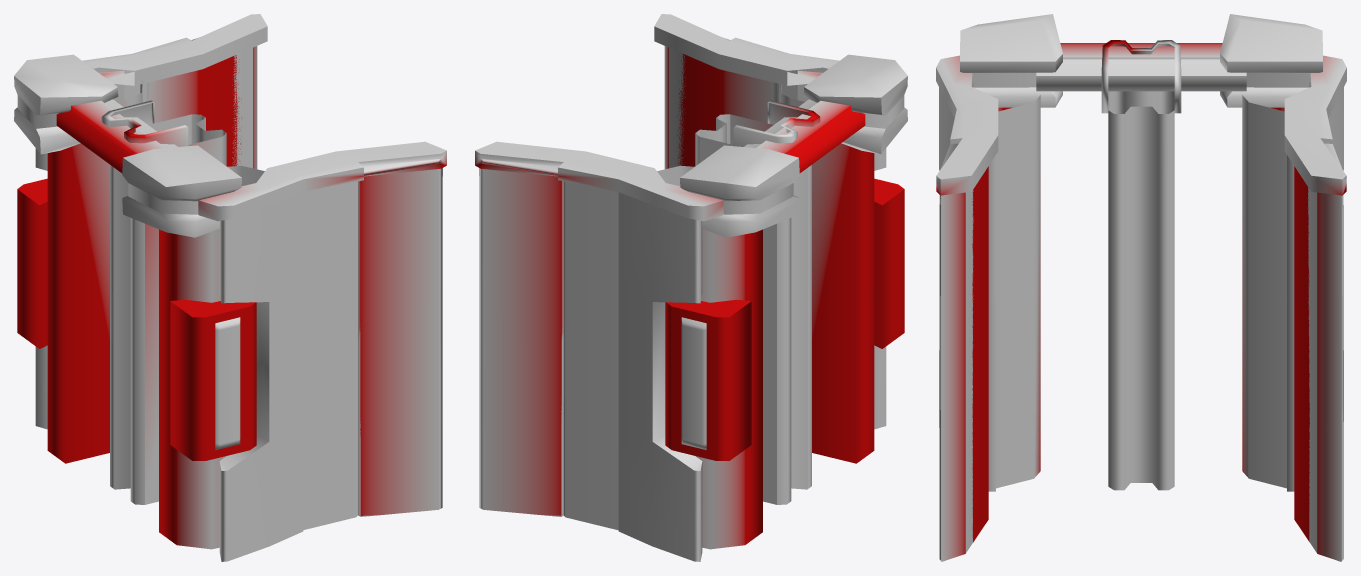
File: midliftmk4.fbx
3 views of the same model, side by side, from view 1: azimuth 30°, elevation 25°; view 2: azimuth 150°, elevation 25°; view 3: azimuth 270°, elevation 25° (orthographic). The views are drawn at different scales.
Visible parts, largest first — view 1: ConveyorLiftMid_Mk4_static_LOD0; view 2: ConveyorLiftMid_Mk4_static_LOD0; view 3: ConveyorLiftMid_Mk4_static_LOD0.
Boxes of the visible parts, <box> form: ConveyorLiftMid_Mk4_static_LOD0: <box>14,14,446,561</box>; ConveyorLiftMid_Mk4_static_LOD0: <box>475,14,907,561</box>; ConveyorLiftMid_Mk4_static_LOD0: <box>936,14,1346,561</box>.
Size of the model in its own units: 163 by 220 by 198.
